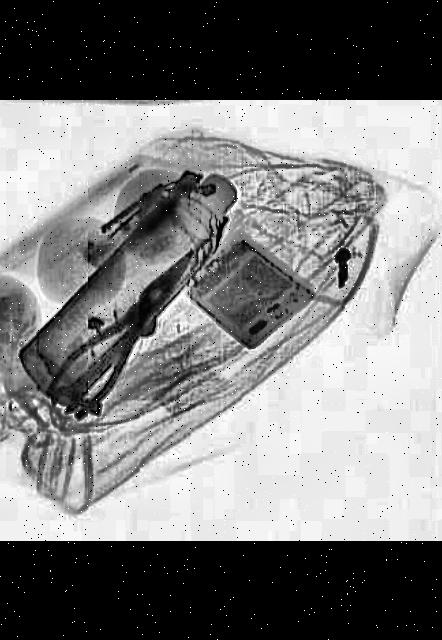Pliers: (36, 237, 222, 425)
Wrench: (48, 319, 154, 416)
